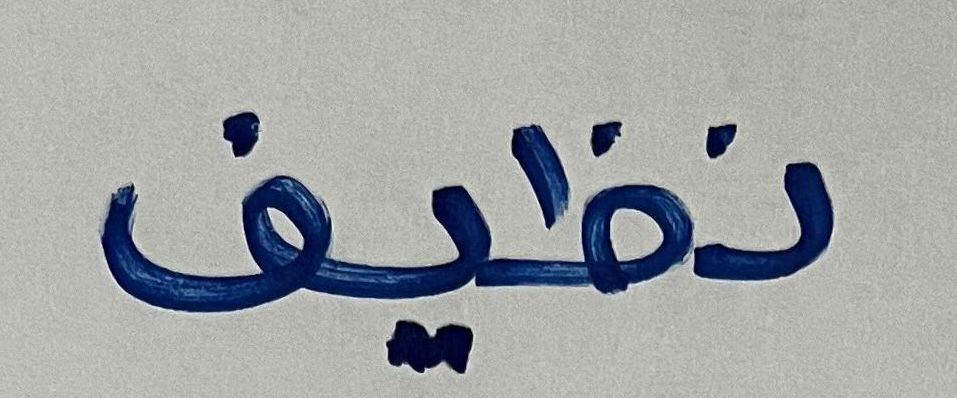feh: (71, 78, 330, 349)
noon: (693, 90, 853, 321)
yeh: (337, 128, 496, 377)
zah: (501, 81, 687, 353)
